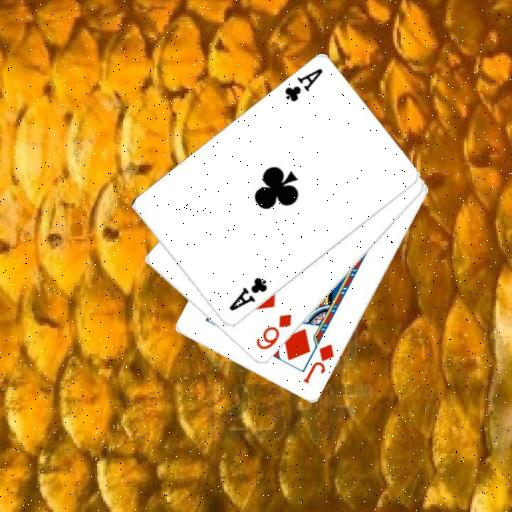6D: (253, 311, 293, 352)
AC: (225, 275, 269, 313), (281, 66, 325, 104)
JD: (300, 342, 336, 386)
